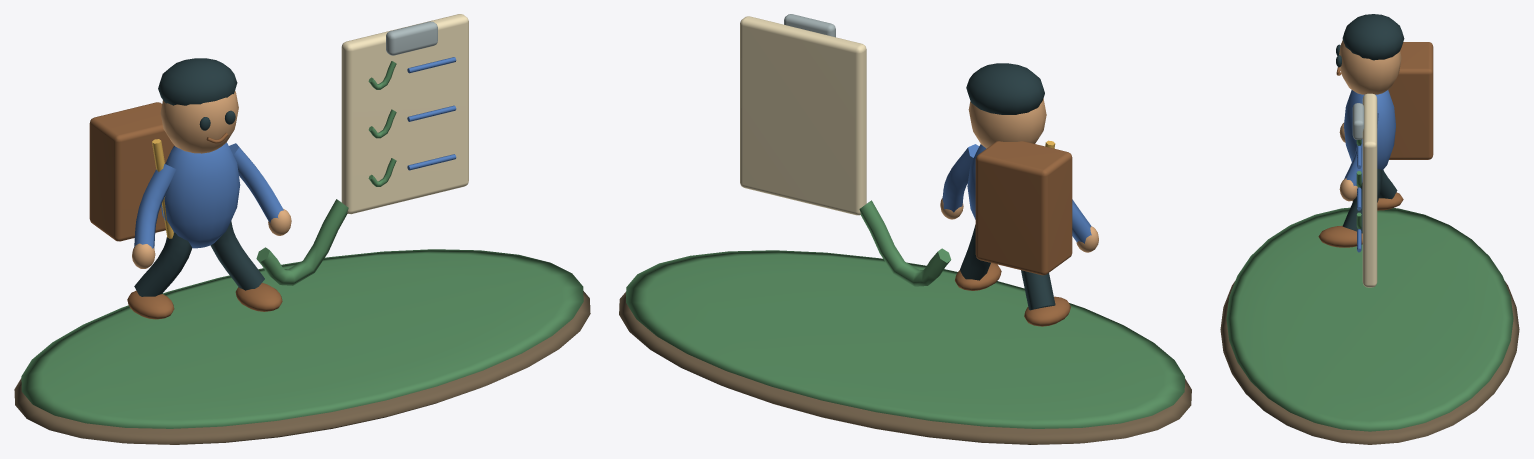
The model's file is complete-second-bearer-duty.glb.
The picture shows the model from 3 angles, left to right: view 1: azimuth 30°, elevation 25°; view 2: azimuth 150°, elevation 25°; view 3: azimuth 270°, elevation 25°; orthographic projection. The views are drawn at different scales.
Parts seen in each view (by area): view 1: complete-second-bearer-duty_surface_01, complete-second-bearer-duty_surface_07, complete-second-bearer-duty_surface_00, complete-second-bearer-duty_surface_05, complete-second-bearer-duty_surface_04, complete-second-bearer-duty_surface_03, complete-second-bearer-duty_surface_02, complete-second-bearer-duty_surface_08; view 2: complete-second-bearer-duty_surface_01, complete-second-bearer-duty_surface_07, complete-second-bearer-duty_surface_04, complete-second-bearer-duty_surface_00, complete-second-bearer-duty_surface_03, complete-second-bearer-duty_surface_02, complete-second-bearer-duty_surface_05, complete-second-bearer-duty_surface_08; view 3: complete-second-bearer-duty_surface_01, complete-second-bearer-duty_surface_04, complete-second-bearer-duty_surface_00, complete-second-bearer-duty_surface_03, complete-second-bearer-duty_surface_07, complete-second-bearer-duty_surface_05, complete-second-bearer-duty_surface_02, complete-second-bearer-duty_surface_08.
Boxes of the visible parts, box(x1,y1,x2,y2) form: complete-second-bearer-duty_surface_01: box(21, 61, 583, 428); complete-second-bearer-duty_surface_07: box(341, 14, 468, 214); complete-second-bearer-duty_surface_00: box(14, 291, 590, 444); complete-second-bearer-duty_surface_05: box(134, 57, 456, 248); complete-second-bearer-duty_surface_04: box(89, 102, 282, 319); complete-second-bearer-duty_surface_03: box(134, 58, 264, 296); complete-second-bearer-duty_surface_02: box(132, 91, 291, 268); complete-second-bearer-duty_surface_08: box(386, 21, 437, 55); complete-second-bearer-duty_surface_01: box(626, 200, 1184, 428); complete-second-bearer-duty_surface_07: box(740, 16, 866, 215); complete-second-bearer-duty_surface_04: box(955, 141, 1072, 326); complete-second-bearer-duty_surface_00: box(619, 292, 1191, 444); complete-second-bearer-duty_surface_03: box(960, 63, 1055, 310); complete-second-bearer-duty_surface_02: box(940, 98, 1098, 252); complete-second-bearer-duty_surface_05: box(942, 144, 1091, 243); complete-second-bearer-duty_surface_08: box(784, 14, 835, 37); complete-second-bearer-duty_surface_01: box(1226, 139, 1513, 431); complete-second-bearer-duty_surface_04: box(1318, 42, 1433, 247); complete-second-bearer-duty_surface_00: box(1220, 281, 1519, 444); complete-second-bearer-duty_surface_03: box(1336, 14, 1404, 233); complete-second-bearer-duty_surface_07: box(1362, 93, 1377, 287); complete-second-bearer-duty_surface_05: box(1343, 90, 1395, 252); complete-second-bearer-duty_surface_02: box(1339, 40, 1401, 201); complete-second-bearer-duty_surface_08: box(1352, 103, 1364, 139).
Size of the model in its own units: 4.56 by 2.6 by 2.5.
